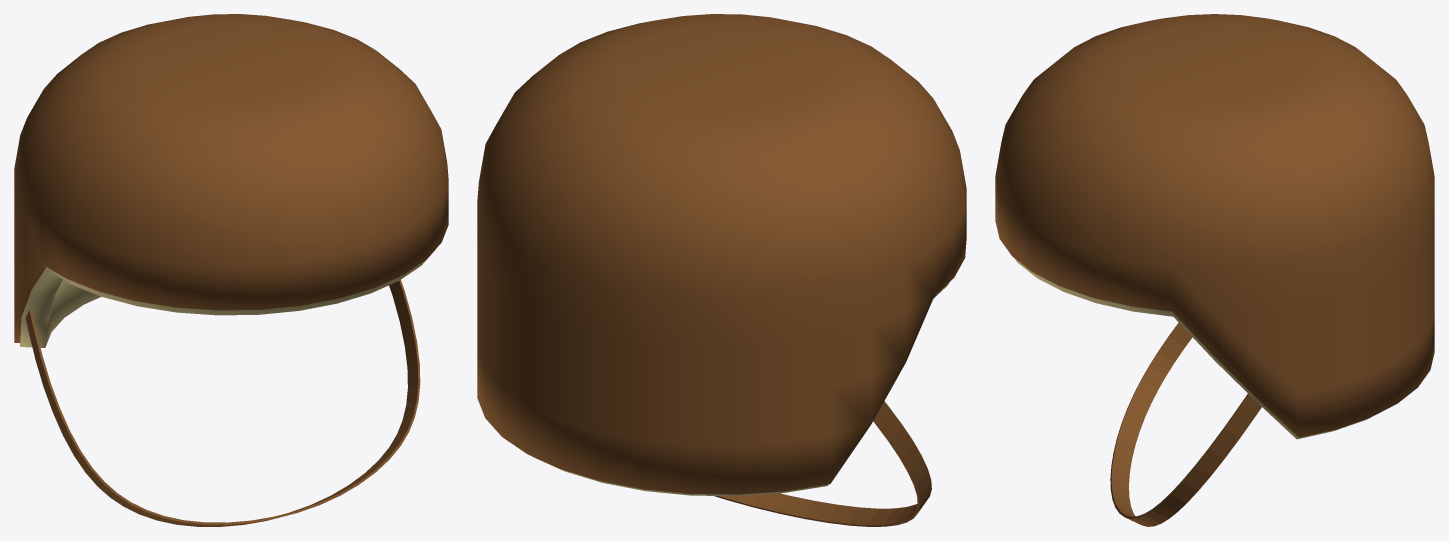
File: paddedHelmet.fbx
The picture shows the model from 3 angles, left to right: view 1: azimuth 30°, elevation 25°; view 2: azimuth 150°, elevation 25°; view 3: azimuth 270°, elevation 25°; orthographic projection. The views are drawn at different scales.
Visible parts, largest first — view 1: Vesteria Head.001, Plane, Vesteria Head.003; view 2: Vesteria Head.001, Plane, Vesteria Head.003; view 3: Vesteria Head.001, Plane, Vesteria Head.003.
Boxes of the visible parts, x1,y1,x2,y2 form: Vesteria Head.001: [14, 14, 448, 342]; Plane: [25, 280, 420, 526]; Vesteria Head.003: [20, 249, 435, 347]; Vesteria Head.001: [477, 14, 966, 494]; Plane: [714, 401, 931, 526]; Vesteria Head.003: [532, 282, 949, 496]; Vesteria Head.001: [995, 14, 1434, 437]; Plane: [1110, 322, 1261, 526]; Vesteria Head.003: [1014, 258, 1370, 439].
Bounding box in the file's own units: 132 × 141 × 132.
